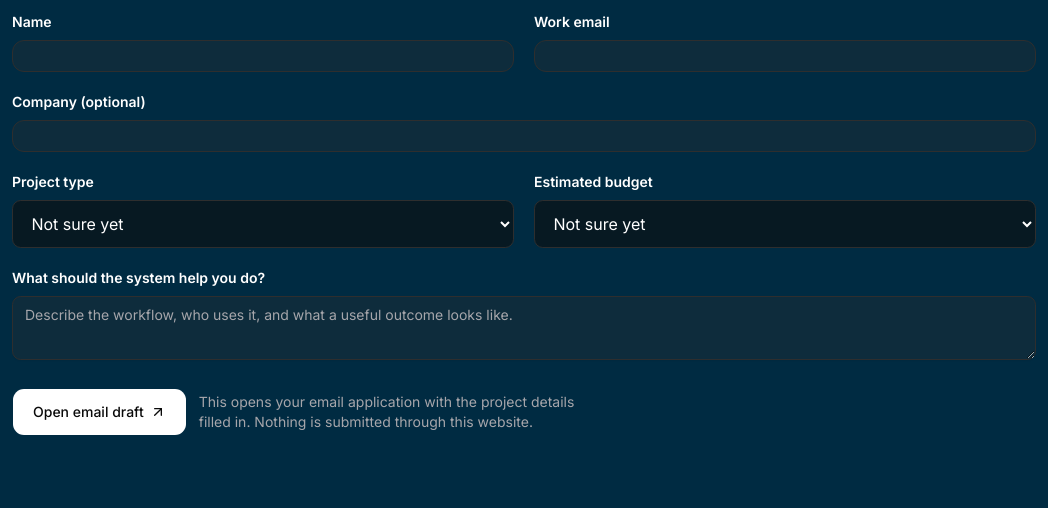
Test: ContactForm › announces validation errors instead of opening an empty draft
Click the button "Open email draft". click: (99, 412)
box: [12, 388, 187, 436]
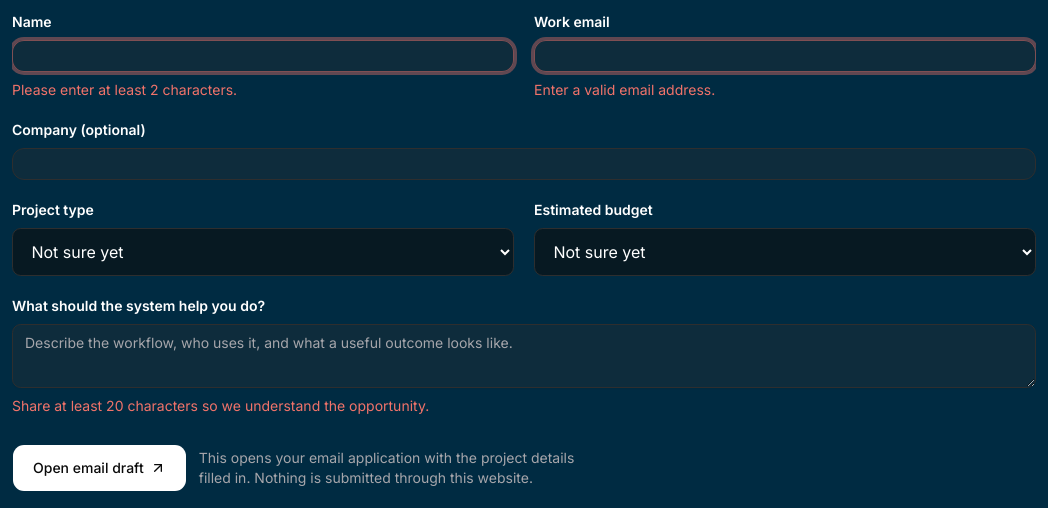
Result: the number of messages is 3 at [12, 81, 237, 98]; [534, 81, 715, 98]; [12, 397, 429, 414]
